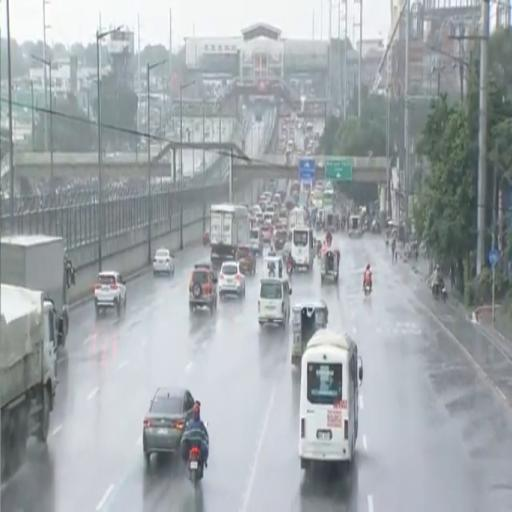car: (143, 388, 194, 463), (258, 278, 291, 328), (94, 271, 126, 315), (189, 264, 217, 313), (219, 262, 245, 297), (237, 246, 260, 275), (153, 248, 174, 276)
motorcycle: (188, 446, 203, 486), (432, 280, 447, 301), (316, 241, 323, 258), (286, 261, 293, 277), (364, 283, 371, 296), (203, 232, 209, 246)
tricycle: (291, 300, 328, 365), (321, 249, 339, 283)
truck: (0, 284, 57, 481), (0, 235, 74, 346), (210, 204, 250, 266), (289, 207, 305, 231)
